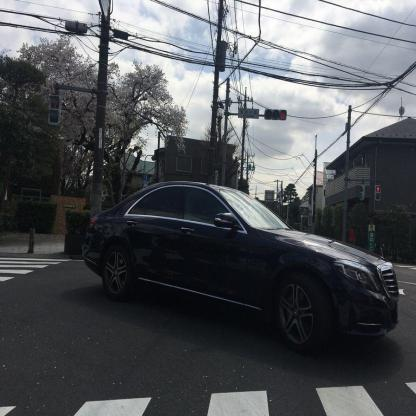Someiyoshino: (9, 14, 194, 172)
